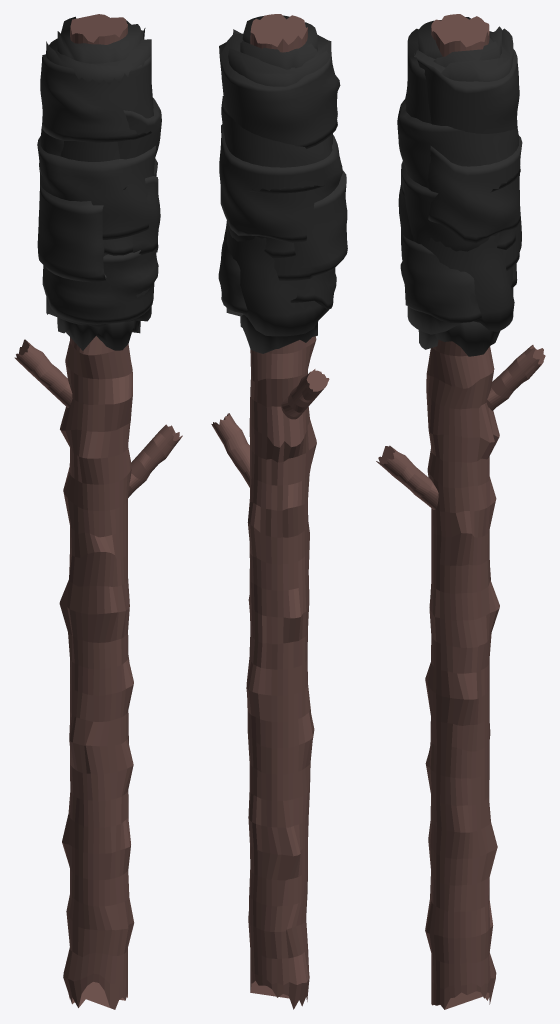
The model's file is torch.fbx.
3 views of the same model, side by side, from view 1: azimuth 90°, elevation 25°; view 2: azimuth 210°, elevation 25°; view 3: azimuth 270°, elevation 25° (orthographic).
Parts seen in each view (by area): view 1: Цилиндр.001, Цилиндр.003; view 2: Цилиндр.001, Цилиндр.003; view 3: Цилиндр.001, Цилиндр.003.
Boxes of the visible parts, <box> form: Цилиндр.001: <box>14,14,182,1009</box>; Цилиндр.003: <box>37,16,161,350</box>; Цилиндр.001: <box>211,14,329,1009</box>; Цилиндр.003: <box>218,15,347,353</box>; Цилиндр.001: <box>376,14,545,1009</box>; Цилиндр.003: <box>397,17,522,356</box>.
Bounding box in the file's own units: 450 × 3700 × 580.
